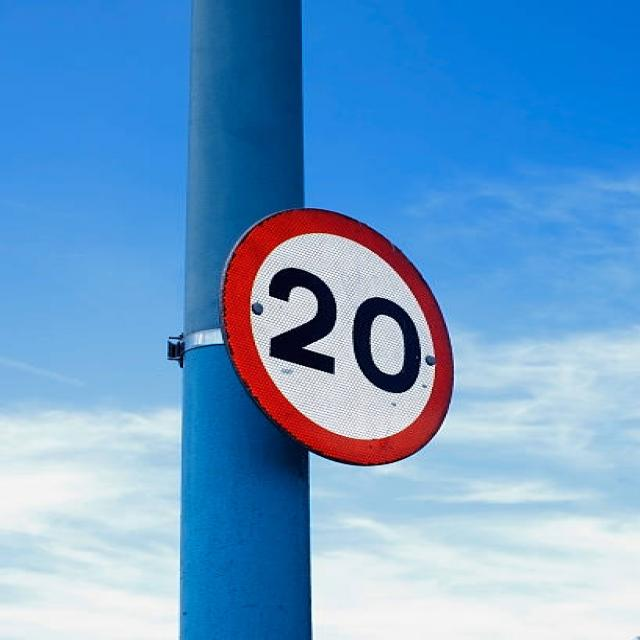speed_limit_20: (216, 200, 469, 472)
